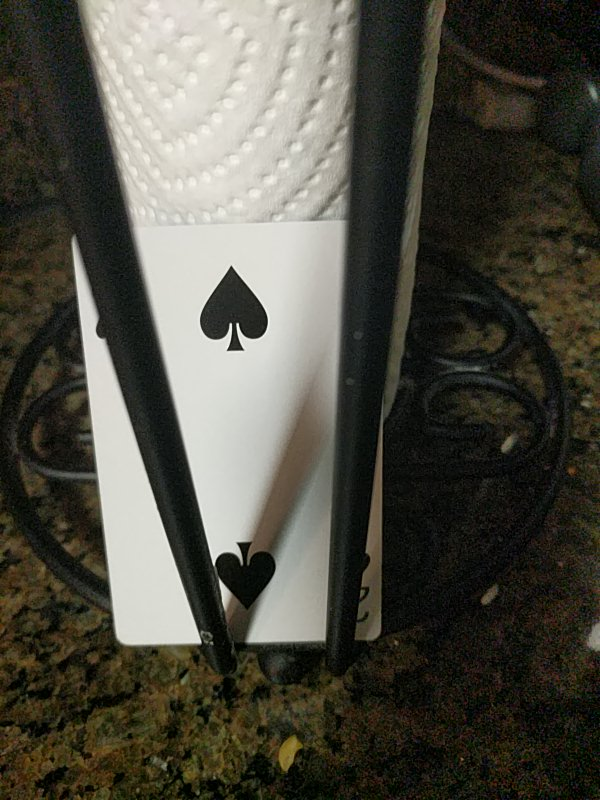Spades: (70, 223, 384, 642)
